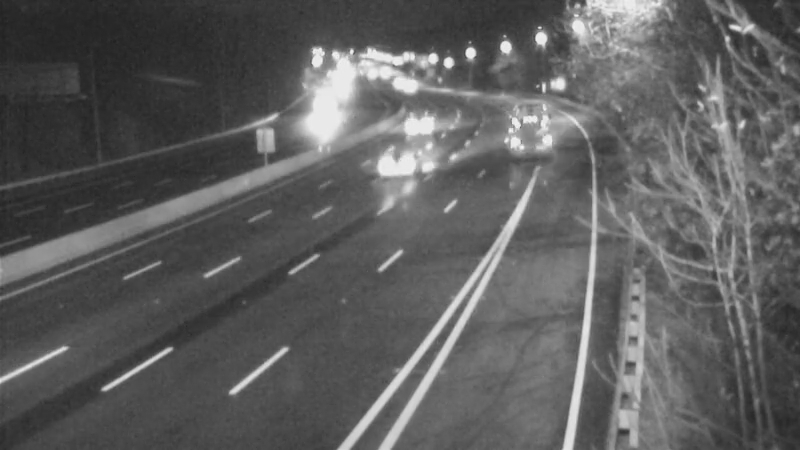vehicle: (360, 119, 440, 199), (368, 59, 418, 109), (383, 56, 433, 106), (500, 103, 550, 153), (397, 98, 447, 148), (292, 92, 342, 142)
